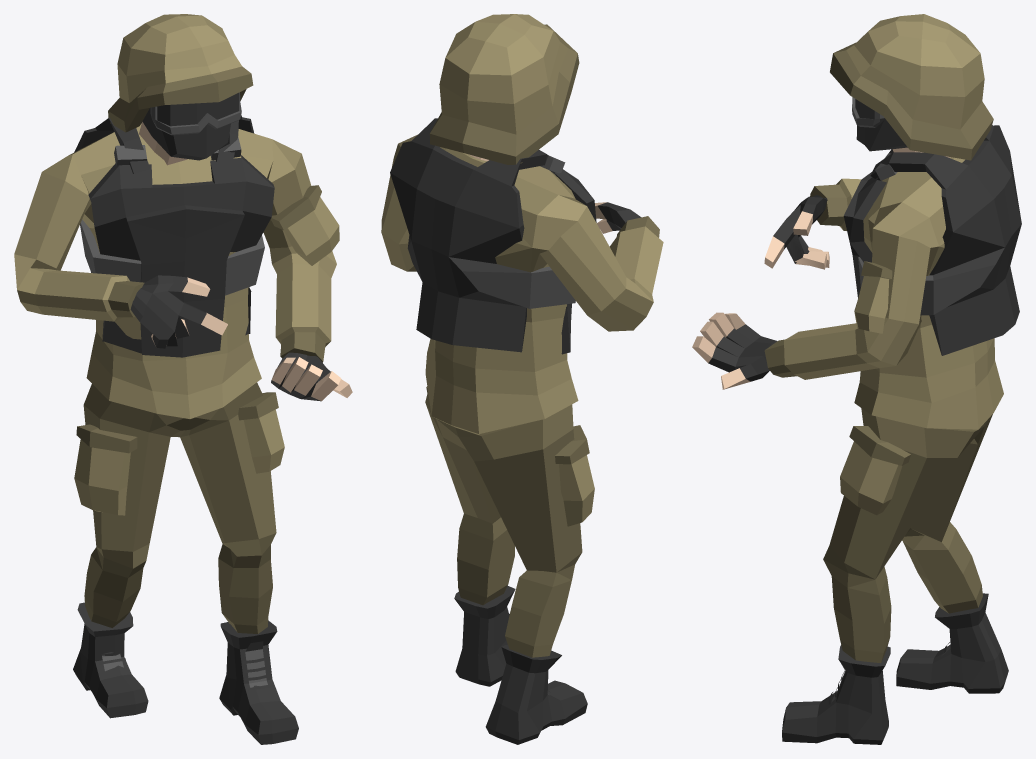
Rendered from Soldier.fbx.
3 renders of one model, left to right at view 1: azimuth 30°, elevation 25°; view 2: azimuth 150°, elevation 25°; view 3: azimuth 270°, elevation 25°, orthographic.
Visible parts, largest first — view 1: Soldat; view 2: Soldat; view 3: Soldat.
Part boxes in pixels (left/top/right/bottom): Soldat: left=14, top=14, right=352, bottom=744; Soldat: left=381, top=14, right=663, bottom=744; Soldat: left=692, top=14, right=1021, bottom=744.
Size of the model in its own units: 14.32 by 13.74 by 31.96.
